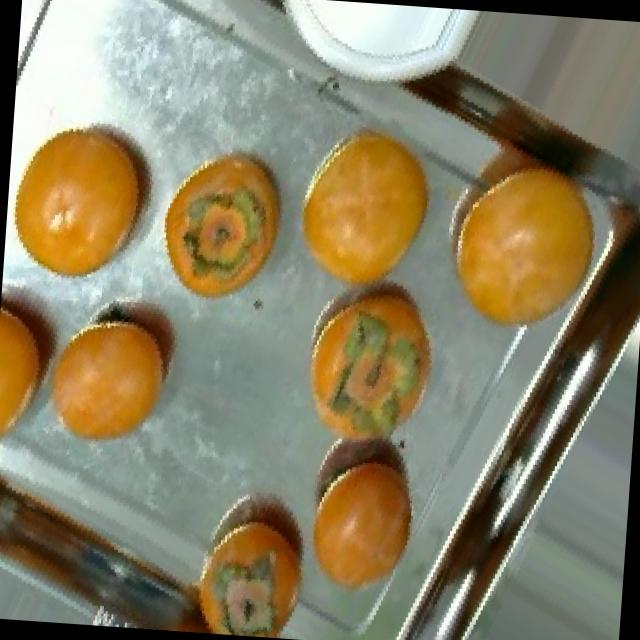Fruit: (417, 122, 626, 360), (268, 243, 463, 473), (267, 88, 456, 314), (1, 80, 180, 309), (134, 124, 305, 323), (276, 420, 442, 624), (32, 288, 195, 466), (170, 465, 321, 640), (0, 262, 79, 468)
